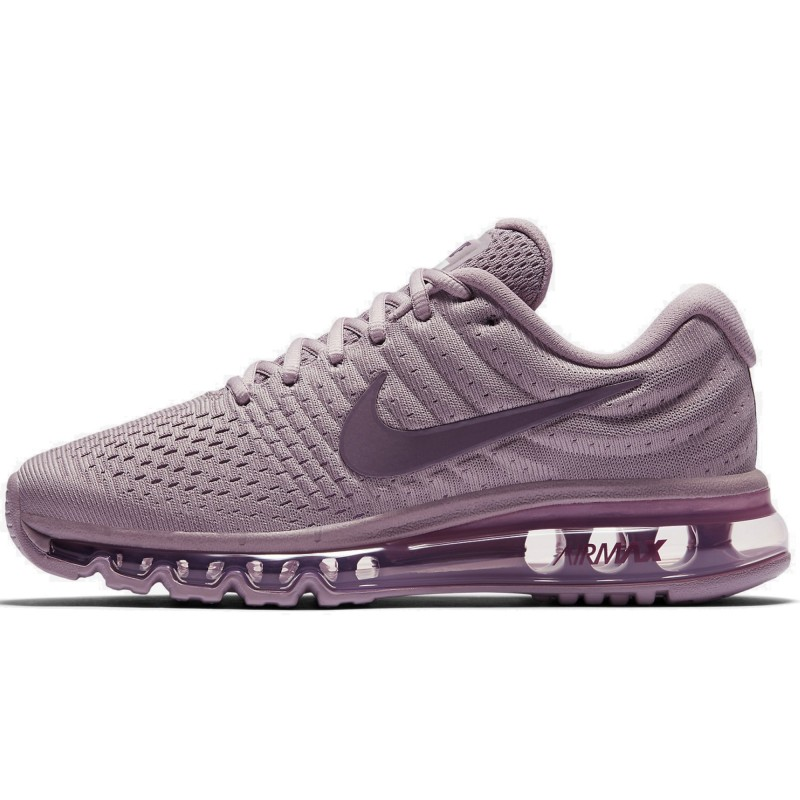nike: (333, 366, 648, 487)
